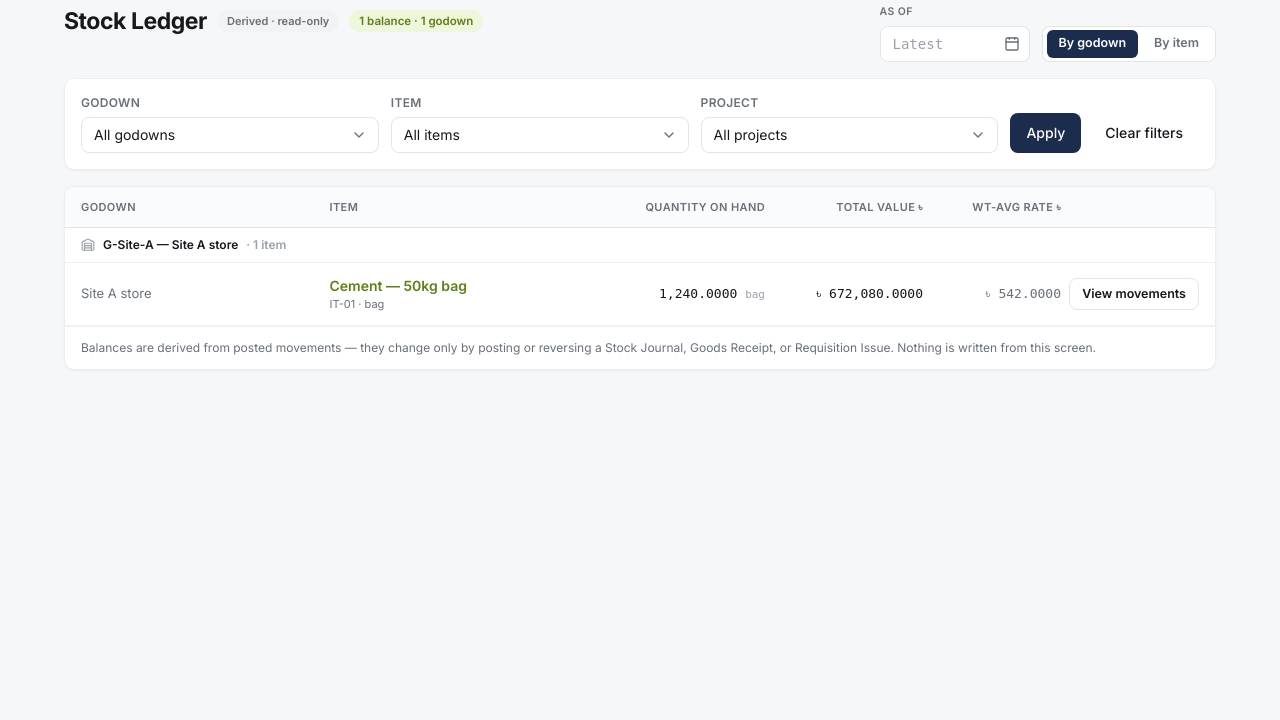
StockLedgerScreen — movement history (spec §4.B/§6) › shows a reversal as an additive badged row, original untouched (FR-INV-020)
Check: the element with test id "sl-balances" is shown, box [65,187,1215,326]
Step 1. Click the button with test id "sl-view" → [1134, 294], box [1069,278,1199,310]
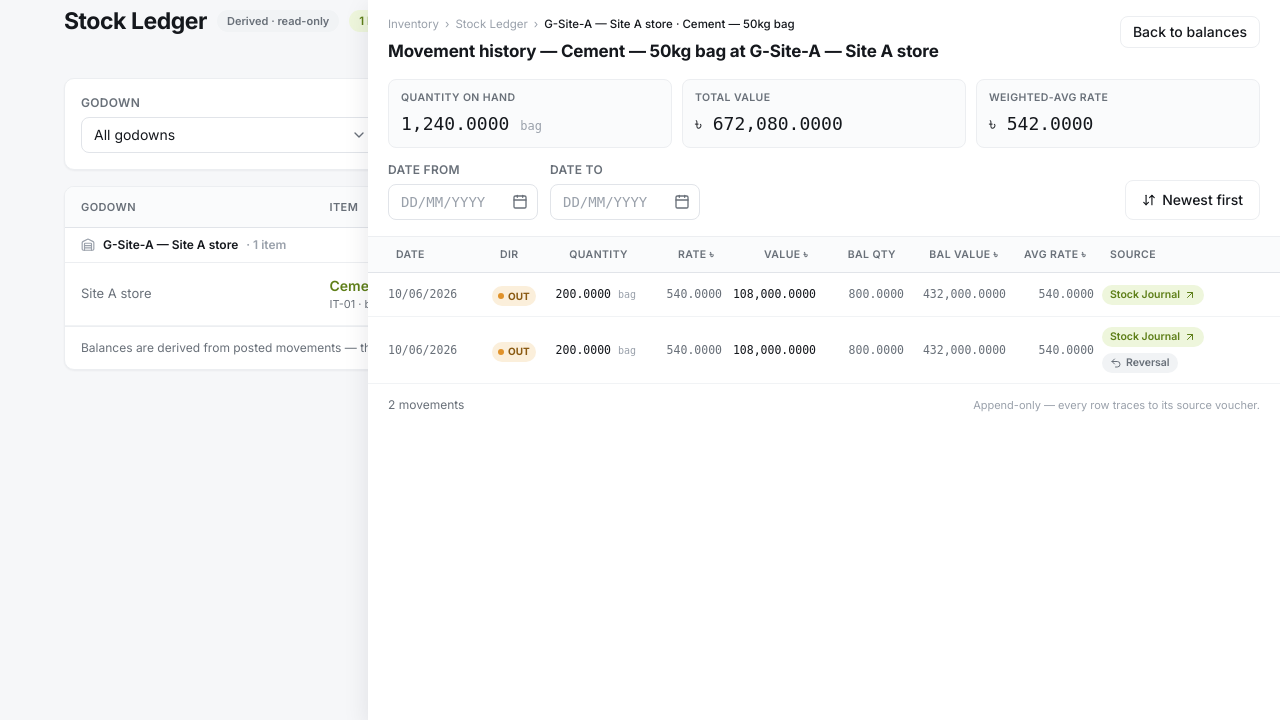
Check: the element with test id "sl-reversal-badge" is shown, box [1102,353,1178,373]
